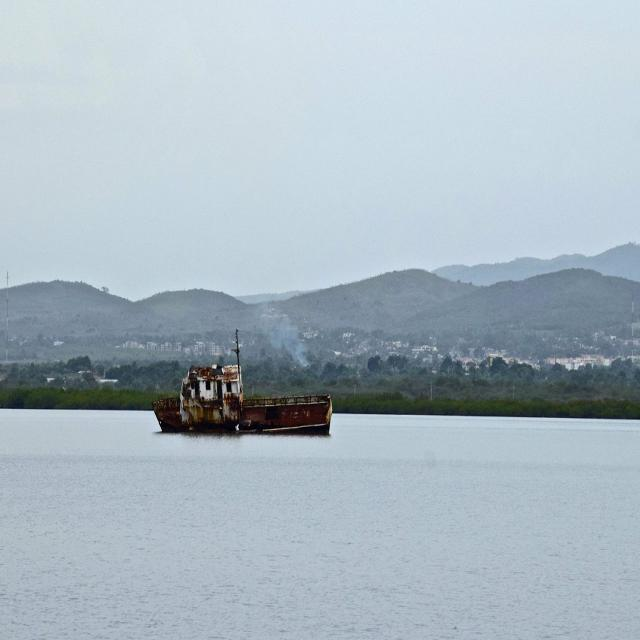fishing boat: (154, 353, 339, 434)
